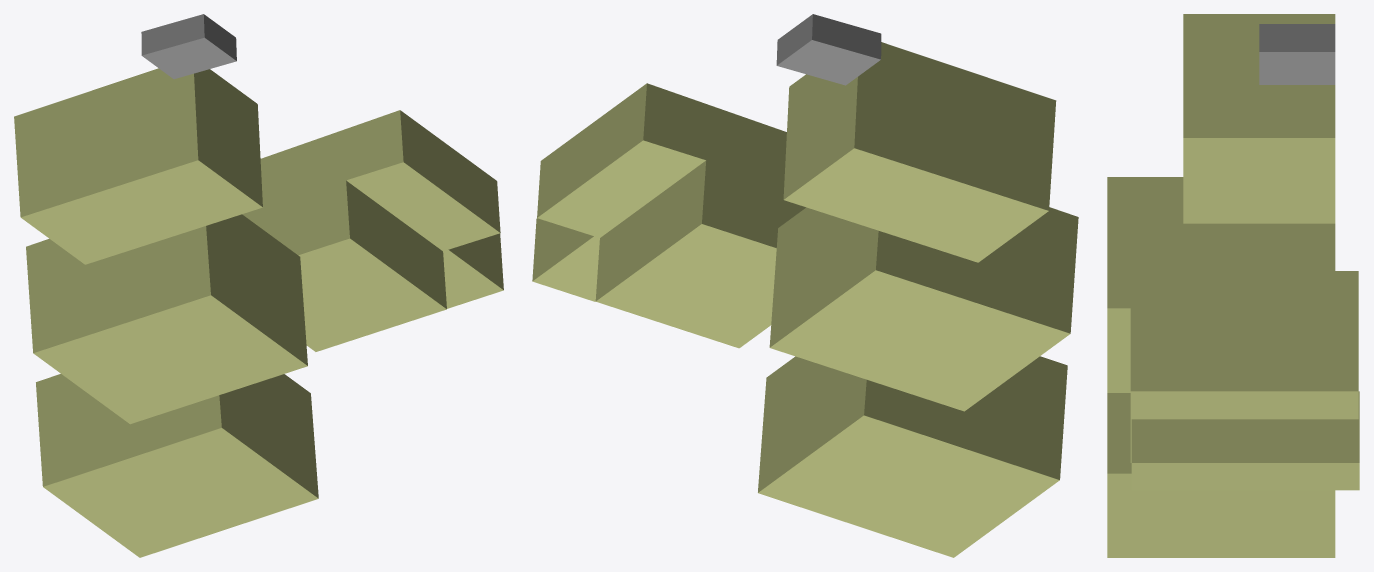
3 renders of one model, left to right at view 1: azimuth 30°, elevation 25°; view 2: azimuth 150°, elevation 25°; view 3: azimuth 270°, elevation 25°, orthographic. The views are drawn at different scales.
Visible parts, largest first — view 1: 0_1_1_3_3_1_2_0_0_0; view 2: 0_1_1_3_3_1_2_0_0_0; view 3: 0_1_1_3_3_1_2_0_0_0.
Boxes of the visible parts, x1,y1,x2,y2 form: 0_1_1_3_3_1_2_0_0_0: (14,14,503,557); 0_1_1_3_3_1_2_0_0_0: (532,14,1078,557); 0_1_1_3_3_1_2_0_0_0: (1107,14,1359,557).
Bounding box in the file's own units: 21.6 × 22.2 × 9.96.
